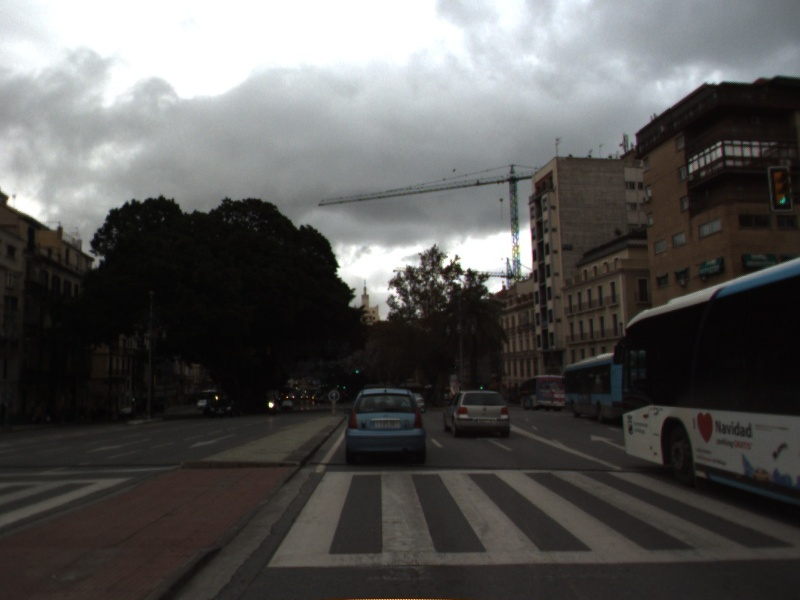STRAIGHT: (588, 432, 628, 452)
